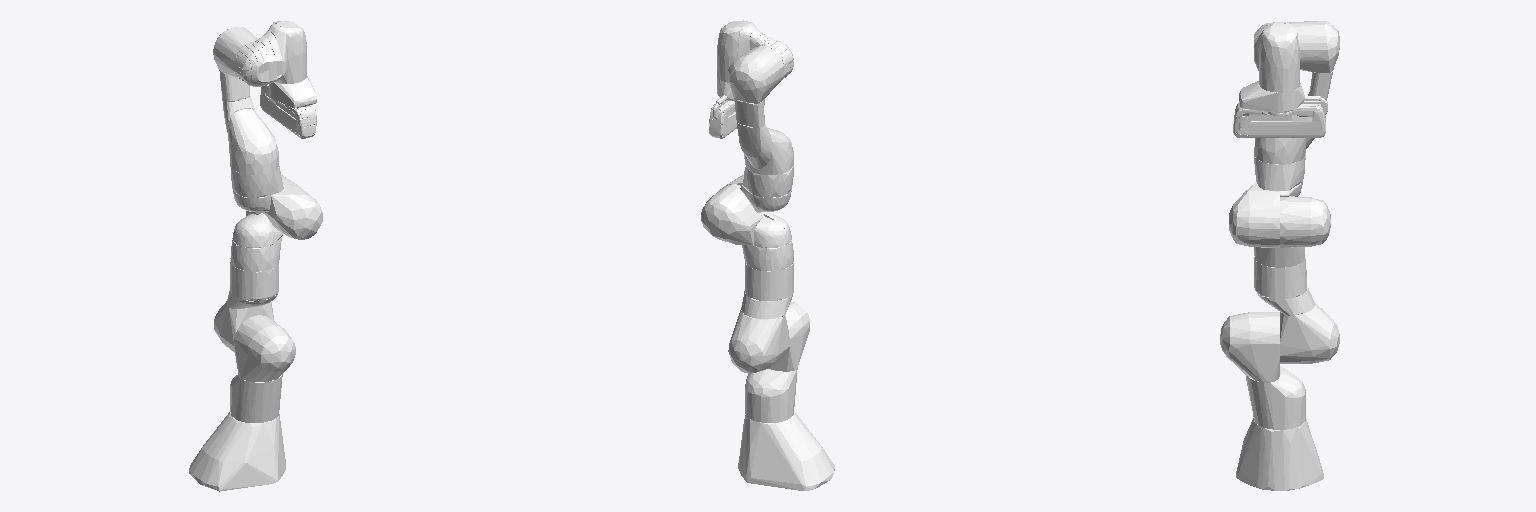
URDF robot description (panda):
<?xml version="1.0" ?>
<!-- =================================================================================== -->
<!-- |    This document was autogenerated by xacro from panda_arm_hand.urdf.xacro      | -->
<!-- |    EDITING THIS FILE BY HAND IS NOT RECOMMENDED                                 | -->
<!-- =================================================================================== -->
<robot name="panda">
    <link name="panda_link0">
        <inertial>
            <origin rpy="0 0 0" xyz="0 0 0.05"/>
            <mass value="2.9"/>
            <inertia ixx="0.1" ixy="0" ixz="0" iyy="0.1" iyz="0" izz="0.1"/>
        </inertial>
        <visual>
            <geometry>
                <mesh filename="package://meshes/visual/link0.obj"/>
            </geometry>
            <material name="panda_white">
                <color rgba="1. 1. 1. 1."/>
            </material>
        </visual>
        <collision>
            <geometry>
                <mesh filename="package://meshes/collision/link0.obj"/>
            </geometry>
            <material name="panda_white"/>
        </collision>
    </link>
    <link name="panda_link1">
        <inertial>
            <origin rpy="0 0 0" xyz="0 -0.04 -0.05"/>
            <mass value="2.7"/>
            <inertia ixx="0.1" ixy="0" ixz="0" iyy="0.1" iyz="0" izz="0.1"/>
        </inertial>
        <visual>
            <geometry>
                <mesh filename="package://meshes/visual/link1.obj"/>
            </geometry>
            <material name="panda_white"/>
        </visual>
        <collision>
            <geometry>
                <mesh filename="package://meshes/collision/link1.obj"/>
            </geometry>
            <material name="panda_white"/>
        </collision>
    </link>
    <joint name="panda_joint1" type="revolute">
        <safety_controller k_position="100.0" k_velocity="40.0"
                           soft_lower_limit="-2.8973"
                           soft_upper_limit="2.8973"/>
        <origin rpy="0 0 0" xyz="0 0 0.333"/>
        <parent link="panda_link0"/>
        <child link="panda_link1"/>
        <axis xyz="0 0 1"/>
        <limit effort="87" lower="-2.9671" upper="2.9671" velocity="2.1750"/>
    </joint>
    <link name="panda_link2">
        <inertial>
            <origin rpy="0 0 0" xyz="0 -0.04 0.06"/>
            <mass value="2.73"/>
            <inertia ixx="0.1" ixy="0" ixz="0" iyy="0.1" iyz="0" izz="0.1"/>
        </inertial>
        <visual>
            <geometry>
                <mesh filename="package://meshes/visual/link2.obj"/>
            </geometry>
            <material name="panda_white"/>
        </visual>
        <collision>
            <geometry>
                <mesh filename="package://meshes/collision/link2.obj"/>
            </geometry>
            <material name="panda_white"/>
        </collision>
    </link>
    <joint name="panda_joint2" type="revolute">
        <safety_controller k_position="100.0" k_velocity="40.0"
                           soft_lower_limit="-1.7628"
                           soft_upper_limit="1.7628"/>
        <origin rpy="-1.57079632679 0 0" xyz="0 0 0"/>
        <parent link="panda_link1"/>
        <child link="panda_link2"/>
        <axis xyz="0 0 1"/>
        <limit effort="87" lower="-1.8326" upper="1.8326" velocity="2.1750"/>
    </joint>
    <link name="panda_link3">
        <inertial>
            <origin rpy="0 0 0" xyz="0.01 0.01 -0.05"/>
            <mass value="2.04"/>
            <inertia ixx="0.1" ixy="0" ixz="0" iyy="0.1" iyz="0" izz="0.1"/>
        </inertial>
        <visual>
            <geometry>
                <mesh filename="package://meshes/visual/link3.obj"/>
            </geometry>
            <material name="panda_red">
                <color rgba="1. 1. 1. 1."/>
            </material>
        </visual>
        <collision>
            <geometry>
                <mesh filename="package://meshes/collision/link3.obj"/>
            </geometry>
        </collision>
    </link>
    <joint name="panda_joint3" type="revolute">
        <safety_controller k_position="100.0" k_velocity="40.0"
                           soft_lower_limit="-2.8973"
                           soft_upper_limit="2.8973"/>
        <origin rpy="1.57079632679 0 0" xyz="0 -0.316 0"/>
        <parent link="panda_link2"/>
        <child link="panda_link3"/>
        <axis xyz="0 0 1"/>
        <limit effort="87" lower="-2.9671" upper="2.9671" velocity="2.1750"/>
    </joint>
    <link name="panda_link4">
        <inertial>
            <origin rpy="0 0 0" xyz="-0.03 0.03 0.02"/>
            <mass value="2.08"/>
            <inertia ixx="0.1" ixy="0" ixz="0" iyy="0.1" iyz="0" izz="0.1"/>
        </inertial>
        <visual>
            <geometry>
                <mesh filename="package://meshes/visual/link4.obj"/>
            </geometry>
            <material name="panda_white"/>
        </visual>
        <collision>
            <geometry>
                <mesh filename="package://meshes/collision/link4.obj"/>
            </geometry>
            <material name="panda_white"/>
        </collision>
    </link>
    <joint name="panda_joint4" type="revolute">
        <safety_controller k_position="100.0" k_velocity="40.0"
                           soft_lower_limit="-3.0718"
                           soft_upper_limit="-0.0698"/>
        <origin rpy="1.57079632679 0 0" xyz="0.0825 0 0"/>
        <parent link="panda_link3"/>
        <child link="panda_link4"/>
        <axis xyz="0 0 1"/>
        <limit effort="87" lower="-3.1416" upper="0.0" velocity="2.1750"/>
    </joint>
    <link name="panda_link5">
        <inertial>
            <origin rpy="0 0 0" xyz="0 0.04 -0.12"/>
            <mass value="3"/>
            <inertia ixx="0.1" ixy="0" ixz="0" iyy="0.1" iyz="0" izz="0.1"/>
        </inertial>
        <visual>
            <geometry>
                <mesh filename="package://meshes/visual/link5.obj"/>
            </geometry>
            <material name="panda_white"/>
        </visual>
        <collision>
            <geometry>
                <mesh filename="package://meshes/collision/link5.obj"/>
            </geometry>
            <material name="panda_white"/>
        </collision>
    </link>
    <joint name="panda_joint5" type="revolute">
        <safety_controller k_position="100.0" k_velocity="40.0"
                           soft_lower_limit="-2.8973"
                           soft_upper_limit="2.8973"/>
        <origin rpy="-1.57079632679 0 0" xyz="-0.0825 0.384 0"/>
        <parent link="panda_link4"/>
        <child link="panda_link5"/>
        <axis xyz="0 0 1"/>
        <limit effort="12" lower="-2.9671" upper="2.9671" velocity="2.6100"/>
    </joint>
    <link name="panda_link6">
        <inertial>
            <origin rpy="0 0 0" xyz="0.04 0 0"/>
            <mass value="1.3"/>
            <inertia ixx="0.1" ixy="0" ixz="0" iyy="0.1" iyz="0" izz="0.1"/>
        </inertial>
        <visual>
            <geometry>
                <mesh filename="package://meshes/visual/link6.obj"/>
            </geometry>
            <material name="panda_white"/>
        </visual>
        <collision>
            <geometry>
                <mesh filename="package://meshes/collision/link6.obj"/>
            </geometry>
            <material name="panda_white"/>
        </collision>
    </link>
    <joint name="panda_joint6" type="revolute">
        <safety_controller k_position="100.0" k_velocity="40.0"
                           soft_lower_limit="-0.0175"
                           soft_upper_limit="3.7525"/>
        <origin rpy="1.57079632679 0 0" xyz="0 0 0"/>
        <parent link="panda_link5"/>
        <child link="panda_link6"/>
        <axis xyz="0 0 1"/>
        <limit effort="12" lower="-0.0873" upper="3.8223" velocity="2.6100"/>
    </joint>
    <link name="panda_link7">
        <inertial>
            <origin rpy="0 0 0" xyz="0 0 0.08"/>
            <mass value=".2"/>
            <inertia ixx="0.1" ixy="0" ixz="0" iyy="0.1" iyz="0" izz="0.1"/>
        </inertial>
        <visual>
            <geometry>
                <mesh filename="package://meshes/visual/link7.obj"/>
            </geometry>
            <material name="panda_white"/>
        </visual>
        <collision>
            <geometry>
                <mesh filename="package://meshes/collision/link7.obj"/>
            </geometry>
            <material name="panda_white"/>
        </collision>
    </link>
    <joint name="panda_joint7" type="revolute">
        <safety_controller k_position="100.0" k_velocity="40.0"
                           soft_lower_limit="-2.8973"
                           soft_upper_limit="2.8973"/>
        <origin rpy="1.57079632679 -0.785398163397 0" xyz="0.088 0 0"/>
        <parent link="panda_link6"/>
        <child link="panda_link7"/>
        <axis xyz="0 0 1"/>
        <limit effort="12" lower="-2.9671" upper="2.9671" velocity="2.6100"/>
    </joint>

    <joint name="panda_hand_joint" type="fixed">
        <parent link="panda_link7"/>
        <child link="panda_hand"/>
        <origin rpy="0 0 -0.785398163397" xyz="0 0 0.107"/>
    </joint>
    <link name="panda_hand">
        <inertial>
            <origin rpy="0 0 0" xyz="0 0 0.04"/>
            <mass value=".81"/>
            <inertia ixx="0.1" ixy="0" ixz="0" iyy="0.1" iyz="0" izz="0.1"/>
        </inertial>
        <visual>
            <geometry>
                <mesh filename="package://meshes/visual/hand.obj"/>
            </geometry>
            <material name="panda_white"/>
        </visual>
        <collision>
            <geometry>
                <mesh filename="package://meshes/collision/hand.obj"/>
            </geometry>
            <material name="panda_white"/>
        </collision>
    </link>
    <link name="panda_leftfinger">
        <inertial>
            <origin rpy="0 0 0" xyz="0 0.01 0.02"/>
            <mass value="0.1"/>
            <inertia ixx="0.1" ixy="0" ixz="0" iyy="0.1" iyz="0" izz="0.1"/>
        </inertial>
        <visual>
            <geometry>
                <mesh filename="package://meshes/visual/finger.obj"/>
            </geometry>
            <material name="panda_white"/>
        </visual>
        <collision>
            <geometry>
                <mesh filename="package://meshes/collision/finger.obj"/>
            </geometry>
            <material name="panda_white"/>
        </collision>
        <contact>
            <stiffness value="10000"/>
            <damping value="10"/>
        </contact>
    </link>
    <link name="panda_rightfinger">
        <inertial>
            <origin rpy="0 0 0" xyz="0 -0.01 0.02"/>
            <mass value="0.1"/>
            <inertia ixx="0.1" ixy="0" ixz="0" iyy="0.1" iyz="0" izz="0.1"/>
        </inertial>
        <visual>
            <origin rpy="0 0 3.14159265359" xyz="0 0 0"/>
            <geometry>
                <mesh filename="package://meshes/visual/finger.obj"/>
            </geometry>
            <material name="panda_black"/>
        </visual>
        <collision>
            <origin rpy="0 0 3.14159265359" xyz="0 0 0"/>
            <geometry>
                <mesh filename="package://meshes/collision/finger.obj"/>
            </geometry>
            <material name="panda_white"/>
        </collision>
        <contact>
            <stiffness value="10000"/>
            <damping value="10"/>
        </contact>
    </link>
    <joint name="panda_finger_joint1" type="fixed">
        <parent link="panda_hand"/>
        <child link="panda_leftfinger"/>
        <origin rpy="0 0 0" xyz="0 0.04 0.0584"/>
        <axis xyz="0 1 0"/>
        <limit effort="140" lower="0.0" upper="0.04" velocity="0.2"/>
    </joint>
    <joint name="panda_finger_joint2" type="fixed">
        <parent link="panda_hand"/>
        <child link="panda_rightfinger"/>
        <origin rpy="0 0 0" xyz="0 -0.04 0.0584"/>
        <axis xyz="0 -1 0"/>
        <limit effort="140" lower="0.0" upper="0.04" velocity="0.0002"/>
    </joint>
    <link name="tcp">
        <inertial>
            <origin rpy="0 0 0" xyz="0 0 0"/>
            <mass value="0.0"/>
            <inertia ixx="0.1" ixy="0" ixz="0" iyy="0.1" iyz="0" izz="0.1"/>
        </inertial>
    </link>
    <joint name="tcp" type="fixed">
        <parent link="panda_hand"/>
        <child link="tcp"/>
        <origin rpy="3.14159 0 0" xyz="0 0 0.105"/>
    </joint>
<klampt package_root="."  freeze_root_link="1"/>
</robot>

--- What the picture shows (computed from the rendered views, not written in the file) ---
3 views of the same robot in one strip: view 1: azimuth 30°, elevation 25°; view 2: azimuth 150°, elevation 25°; view 3: azimuth 270°, elevation 25° (orthographic).
Model panda with 12 links and 11 joints (7 revolute, 4 fixed), rooted at panda_link0, posed every joint at zero.
Links seen in each view (by area): view 1: panda_link0, panda_link1, panda_link5, panda_link4, panda_link6, panda_link2, panda_link3, panda_hand, panda_link7; view 2: panda_link0, panda_link5, panda_link2, panda_link3, panda_link1, panda_link6, panda_link4, panda_hand; view 3: panda_link1, panda_link2, panda_link0, panda_link4, panda_link5, panda_link3, panda_link6, panda_hand, panda_link7.
Link boxes in pixels (bbox=[...]): panda_link0: bbox=[189, 412, 285, 491]; panda_link1: bbox=[230, 315, 295, 422]; panda_link5: bbox=[213, 27, 278, 174]; panda_link4: bbox=[230, 166, 322, 239]; panda_link6: bbox=[233, 20, 306, 86]; panda_link2: bbox=[214, 260, 278, 352]; panda_link3: bbox=[230, 175, 299, 271]; panda_hand: bbox=[260, 84, 316, 138]; panda_link7: bbox=[269, 76, 316, 108]; panda_link0: bbox=[738, 411, 834, 490]; panda_link5: bbox=[728, 46, 793, 174]; panda_link2: bbox=[728, 262, 793, 373]; panda_link3: bbox=[701, 184, 793, 271]; panda_link1: bbox=[745, 302, 809, 422]; panda_link6: bbox=[717, 20, 793, 82]; panda_link4: bbox=[726, 165, 793, 212]; panda_hand: bbox=[709, 95, 764, 138]; panda_link1: bbox=[1220, 312, 1305, 429]; panda_link2: bbox=[1254, 255, 1339, 363]; panda_link0: bbox=[1236, 418, 1323, 490]; panda_link4: bbox=[1229, 153, 1305, 247]; panda_link5: bbox=[1254, 21, 1339, 164]; panda_link3: bbox=[1254, 196, 1330, 267]; panda_link6: bbox=[1254, 22, 1299, 92]; panda_hand: bbox=[1233, 96, 1327, 137]; panda_link7: bbox=[1239, 81, 1304, 112].
Size in the robot's own frame: 0.2929 by 0.2605 by 1.12 metres.
Meshes: 10 distinct files referenced, 9 mesh visuals loaded (9 OBJ); not drawn: 2 (reference not matched to a file when rendering).
